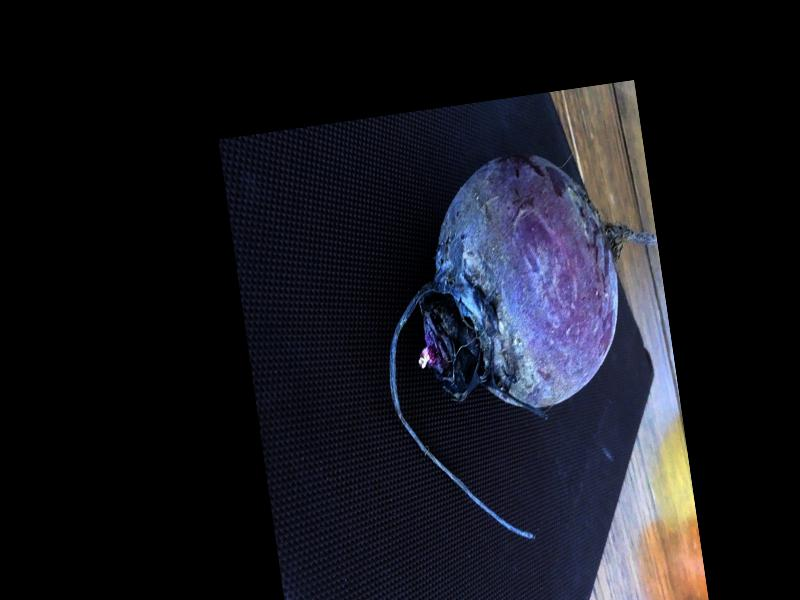Beet: (359, 135, 695, 556)
